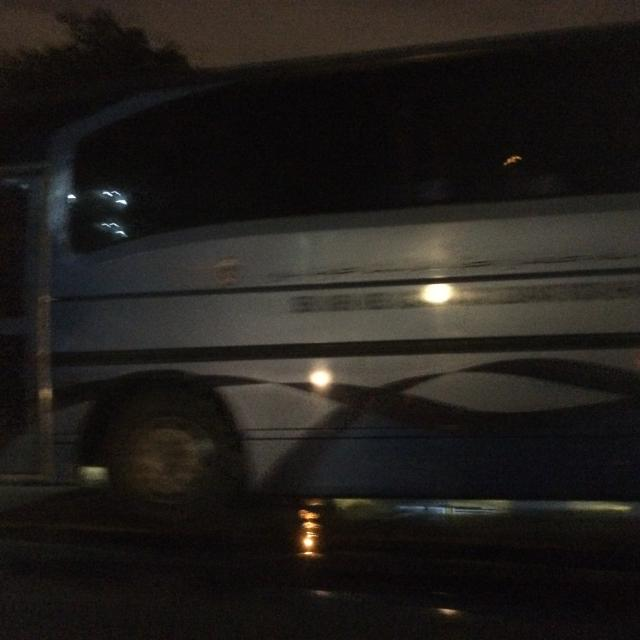Bus: (5, 37, 640, 559)
